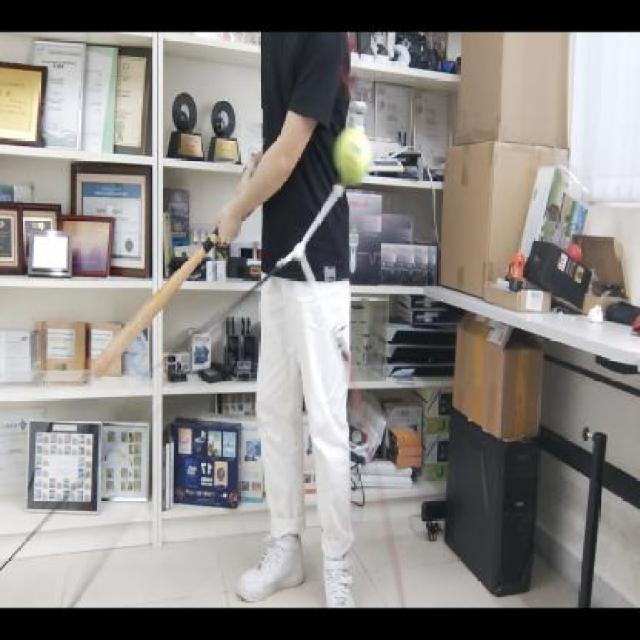baseball: (335, 125, 370, 180)
